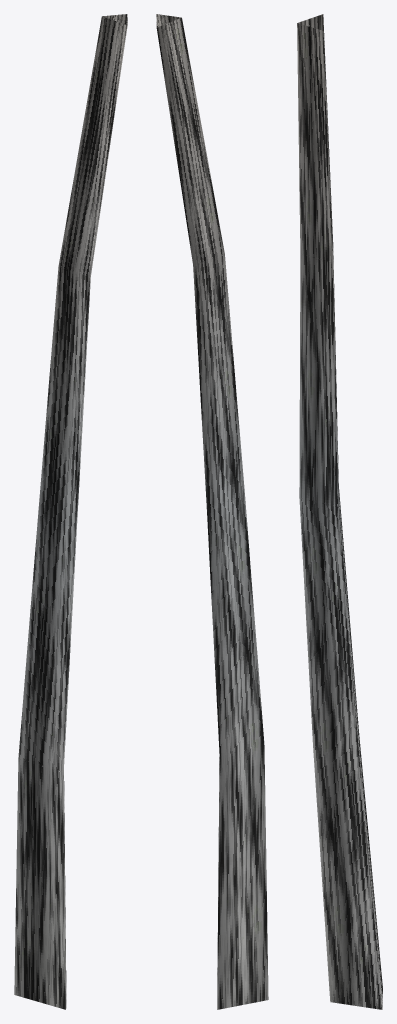
File: willow_bark_l2.gltf
The picture shows the model from 3 angles, left to right: view 1: azimuth 30°, elevation 25°; view 2: azimuth 210°, elevation 25°; view 3: azimuth 270°, elevation 25°; orthographic projection. The views are drawn at different scales.
Visible parts, largest first — view 1: willow_bark_l2; view 2: willow_bark_l2; view 3: willow_bark_l2.
Boxes of the visible parts, x1,y1,x2,y2 form: willow_bark_l2: [14, 14, 127, 1009]; willow_bark_l2: [156, 14, 268, 1009]; willow_bark_l2: [297, 14, 382, 1009].
Bounding box in the file's own units: 0.6755 × 6.97 × 0.5396.
1 material, 1 textured.
